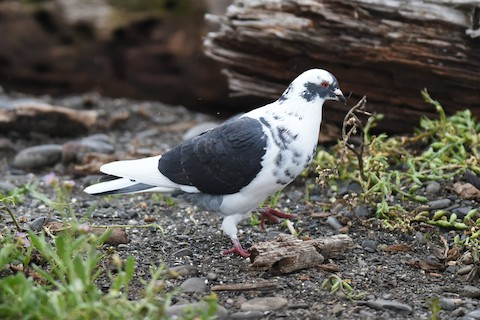pigeon: (83, 67, 351, 258)
